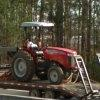Tractor: (10, 15, 83, 88)
